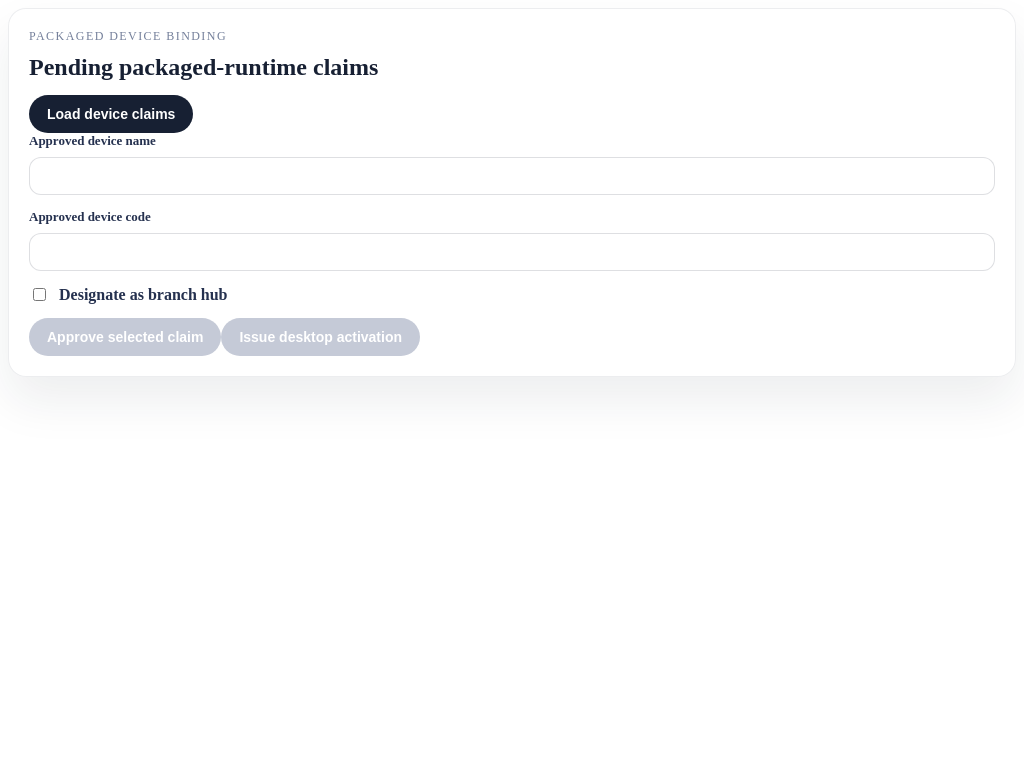
Test case: owner device claim section › loads a pending packaged-runtime claim, approves it into a branch device, and issues a desktop activation
Click the button "Load device claims".
click(111, 114)  # box [29,95,193,133]
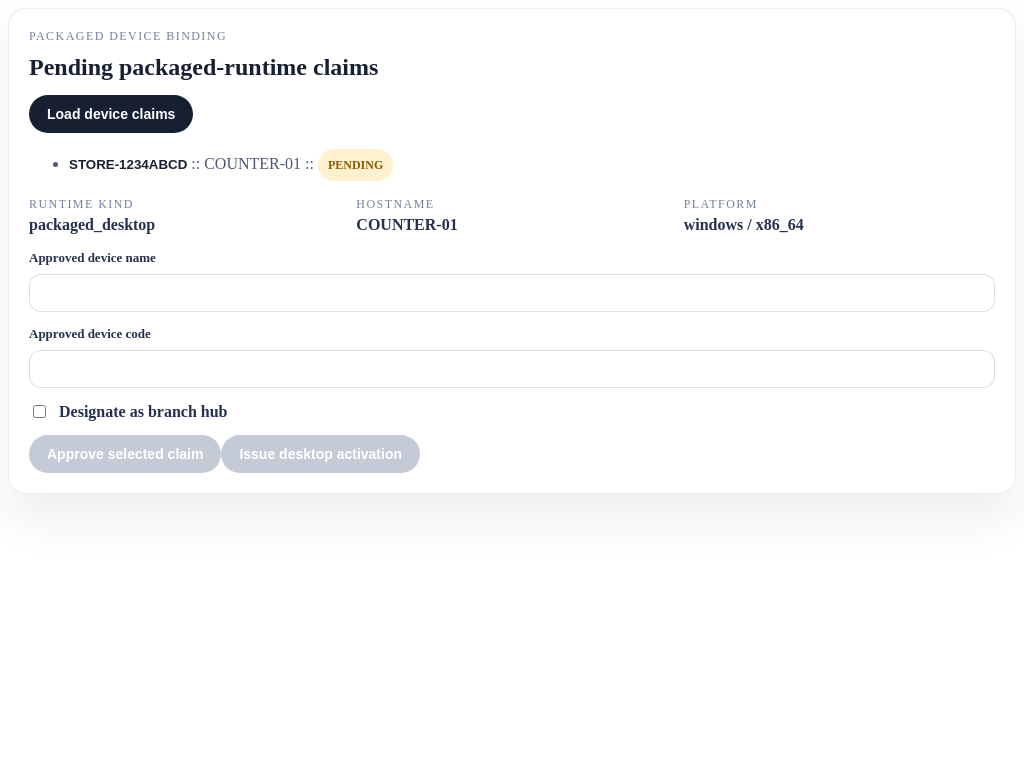
Check: the button "STORE-1234ABCD" is shown, box [69,157,187,172]
Type "Counter Desktop 1" into the field labelled "Approved device name".
click(512, 293); type("Counter Desktop 1")  # box [29,274,995,312]
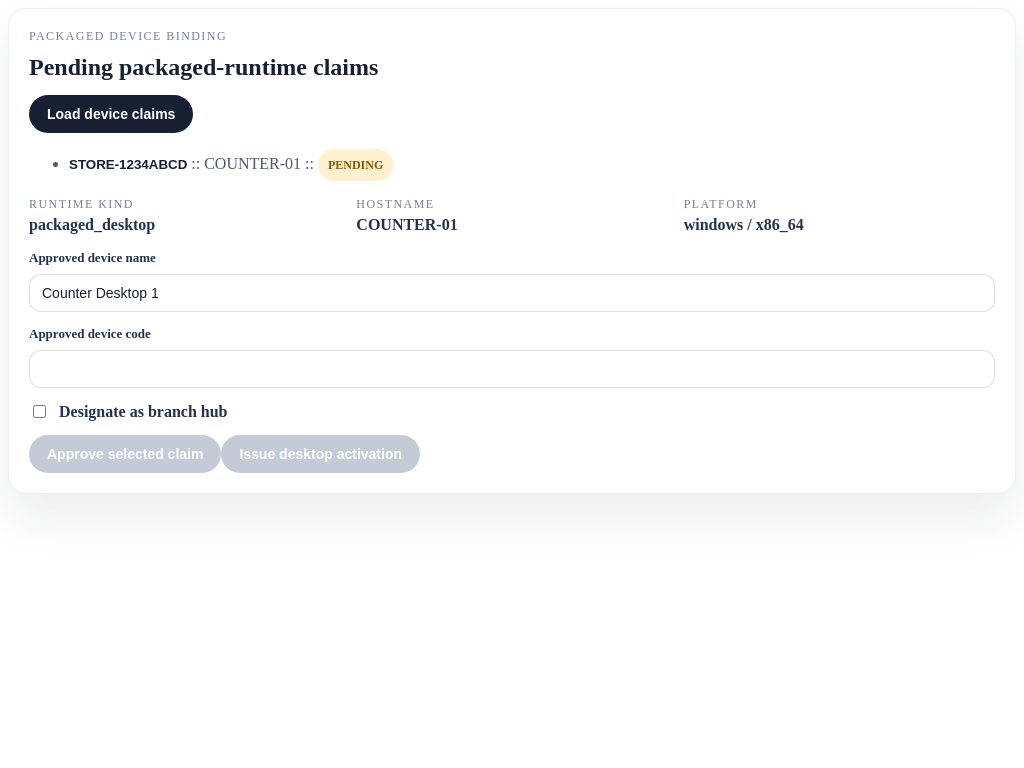
Type "BLR-POS-01" into the field labelled "Approved device code".
click(512, 369); type("BLR-POS-01")  # box [29,350,995,388]
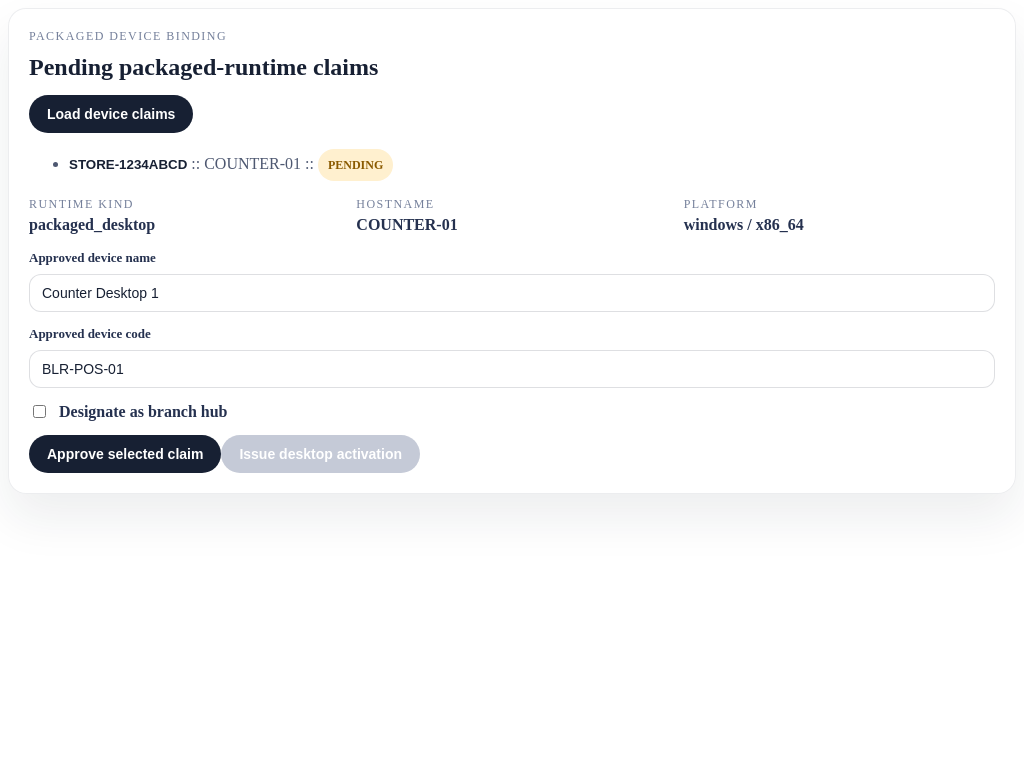
Click the checkbox labelled "Designate as branch hub".
click(40, 412)  # box [33,405,46,418]
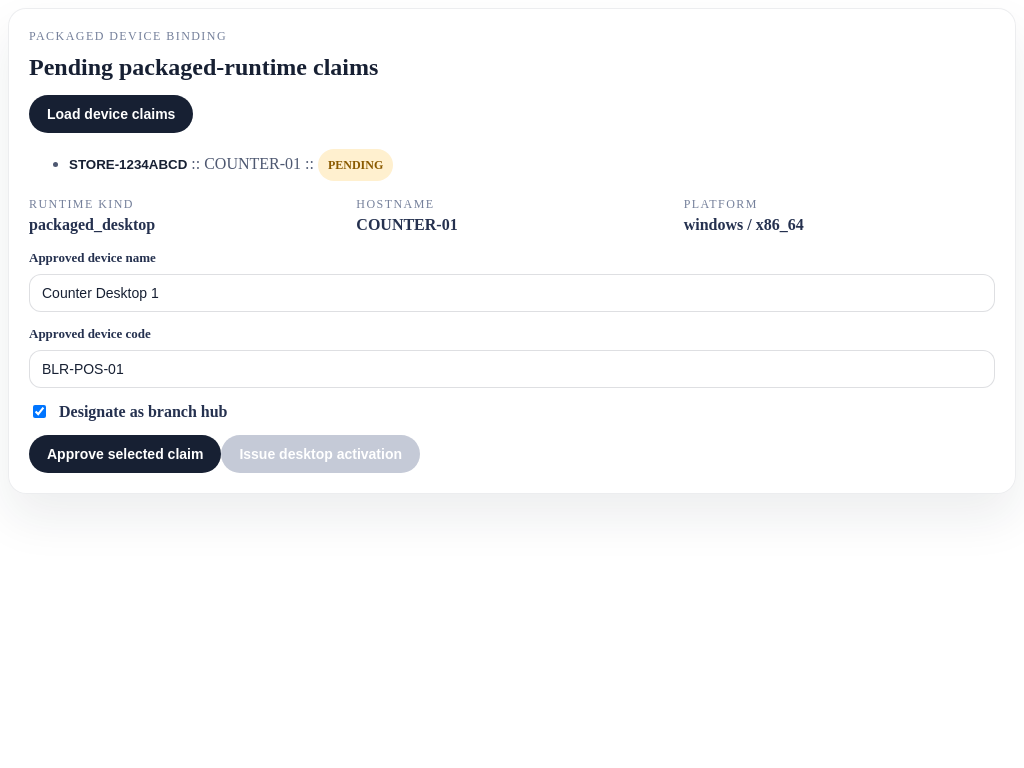
Click the button "Approve selected claim".
click(125, 454)  # box [29,435,221,473]
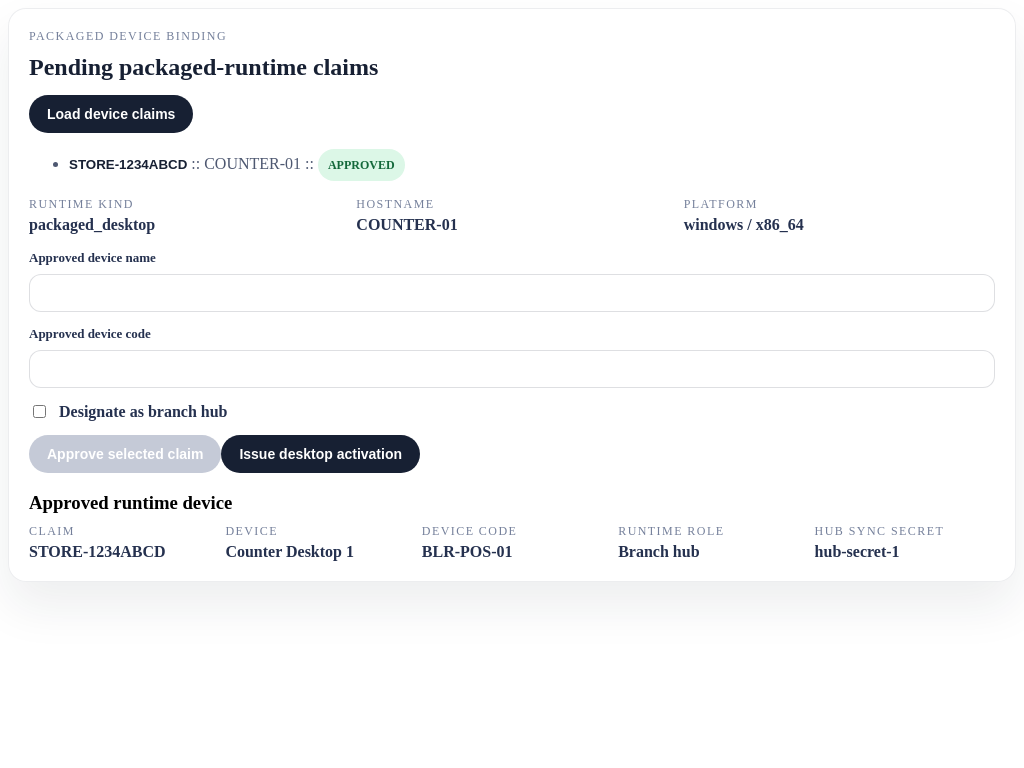
Check: the heading "Approved runtime device" is shown, box [29,492,232,513]
Check: the text "BLR-POS-01" is shown, box [422,543,512,560]
Check: the text "Branch hub" is shown, box [618,543,700,560]
Click the button "Issue desktop activation".
click(321, 454)  # box [221,435,420,473]
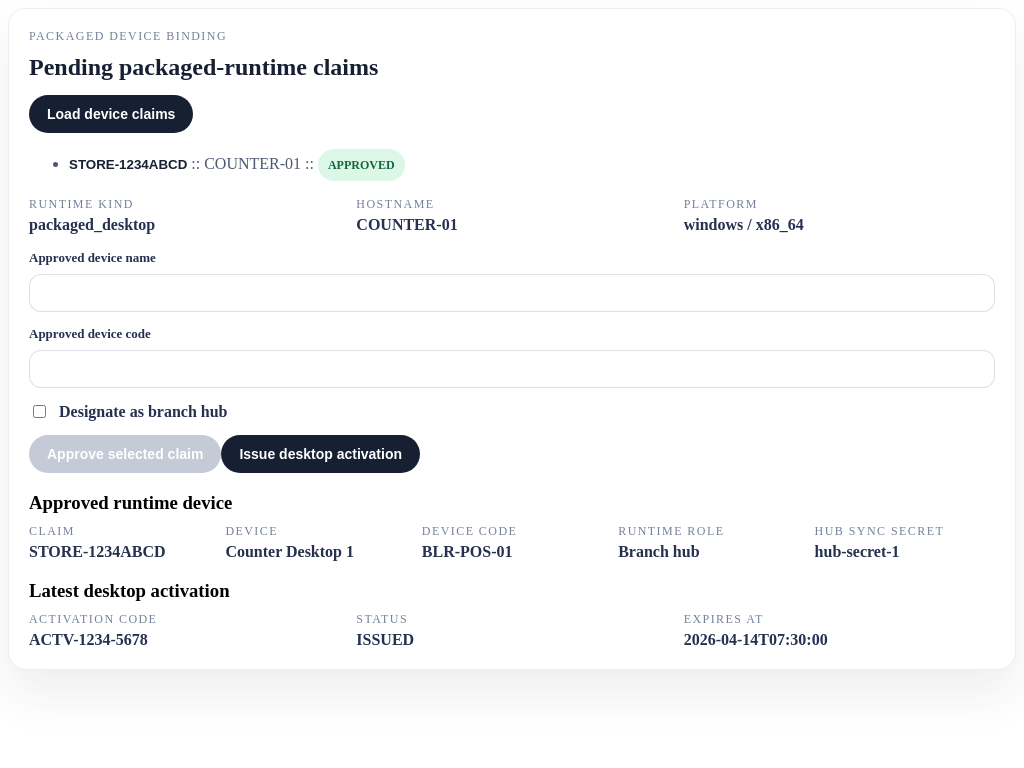
Check: the text "ACTV-1234-5678" is shown, box [29,631,148,648]
